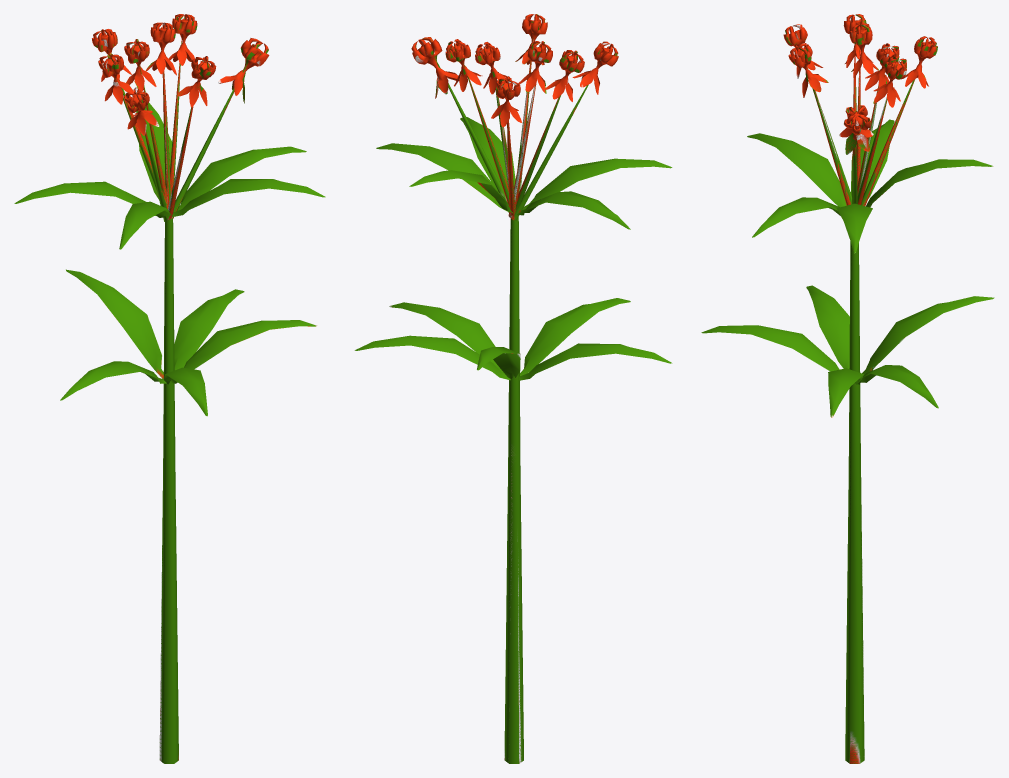
File: planta_asclepias.fbx
The picture shows the model from 3 angles, left to right: view 1: azimuth 30°, elevation 25°; view 2: azimuth 150°, elevation 25°; view 3: azimuth 270°, elevation 25°; orthographic projection.
Parts seen in each view (by area): view 1: base stem.012; view 2: base stem.012; view 3: base stem.012.
Part boxes in pixels (bbox=[...]): base stem.012: bbox=[14, 14, 325, 763]; base stem.012: bbox=[354, 14, 672, 763]; base stem.012: bbox=[701, 14, 994, 763].
Bounding box in the file's own units: 816 × 2063 × 761.
1 material, 1 textured.
